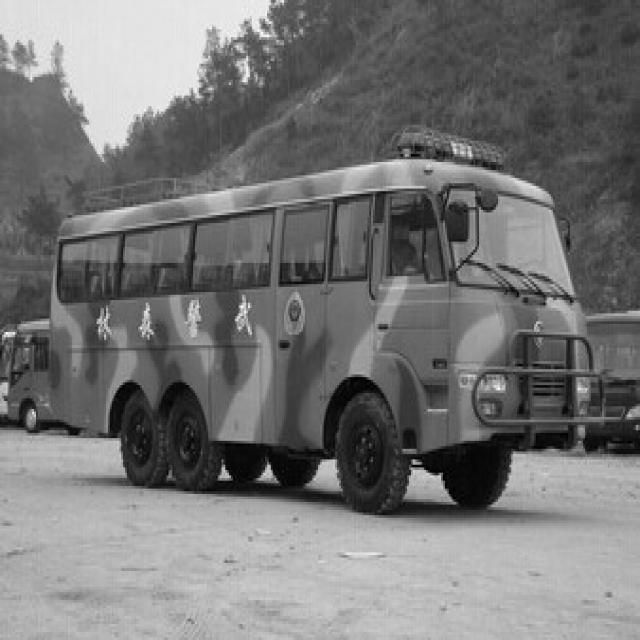Bus: (49, 159, 595, 514)
